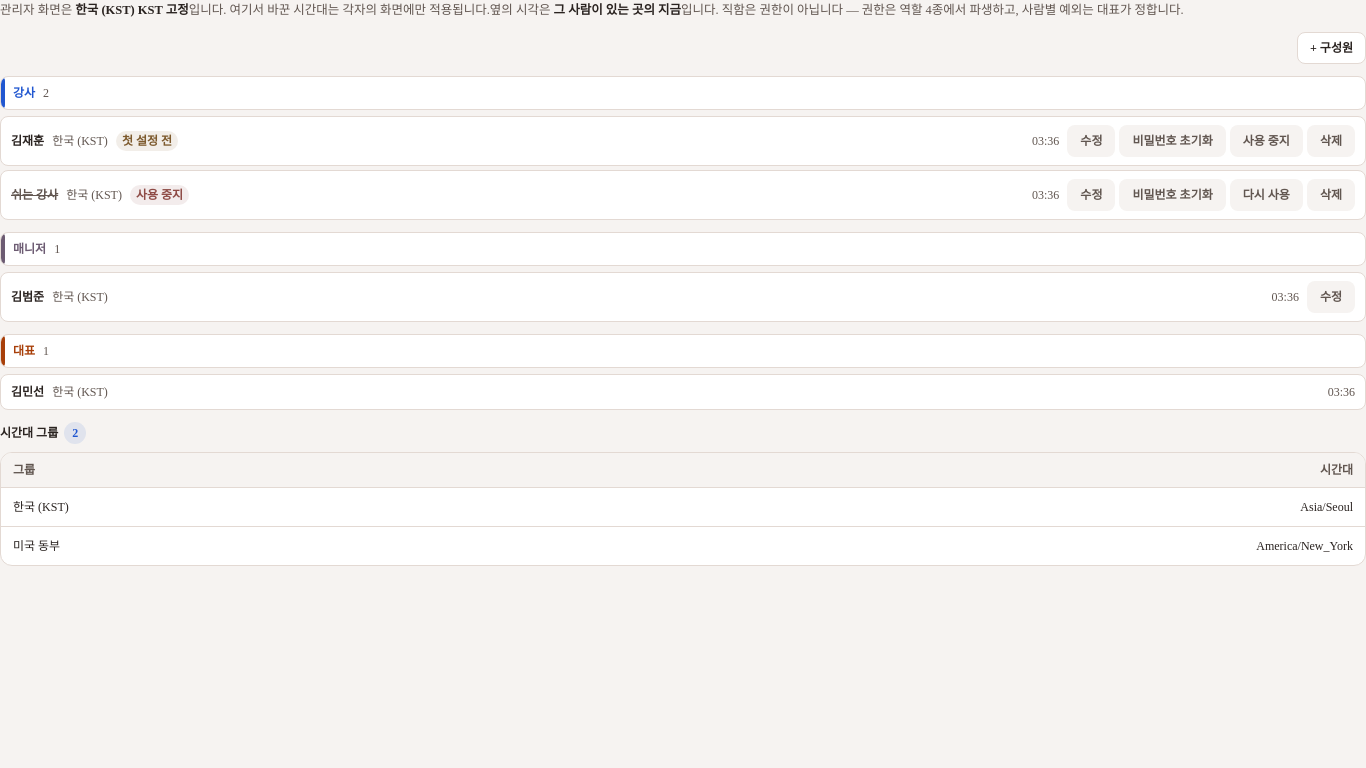
Test case: §17 사용자 표 CRUD (W8) › 자기 줄의 「수정」에는 역할 칸이 없고, 서버 거절 문장은 창 안에 남는다
Click the button "수정" in the row of "김범준": point(1331, 297) top-left (1307, 281), bottom-right (1355, 313)
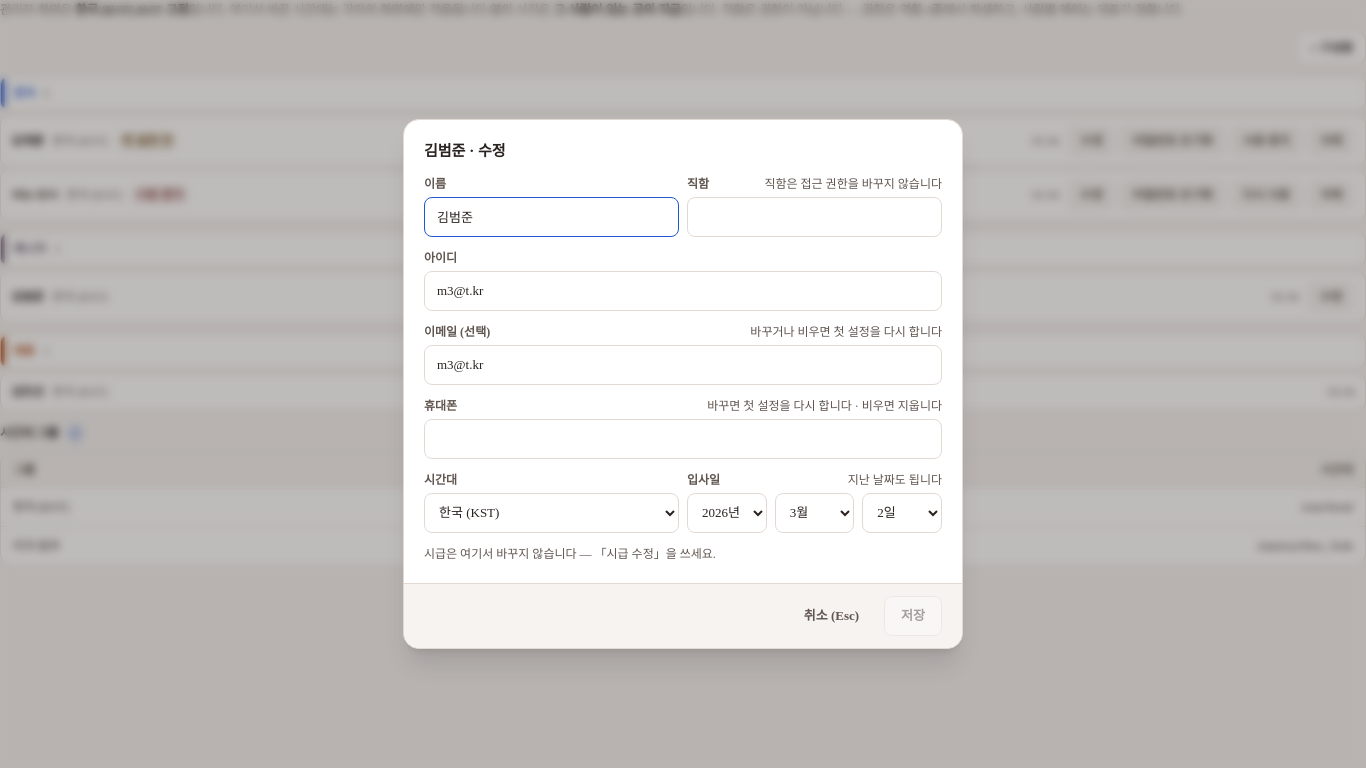
Replace the text in the field labelled "이메일 (선택)" with "m7@t.kr": point(683, 365) top-left (424, 345), bottom-right (942, 385)
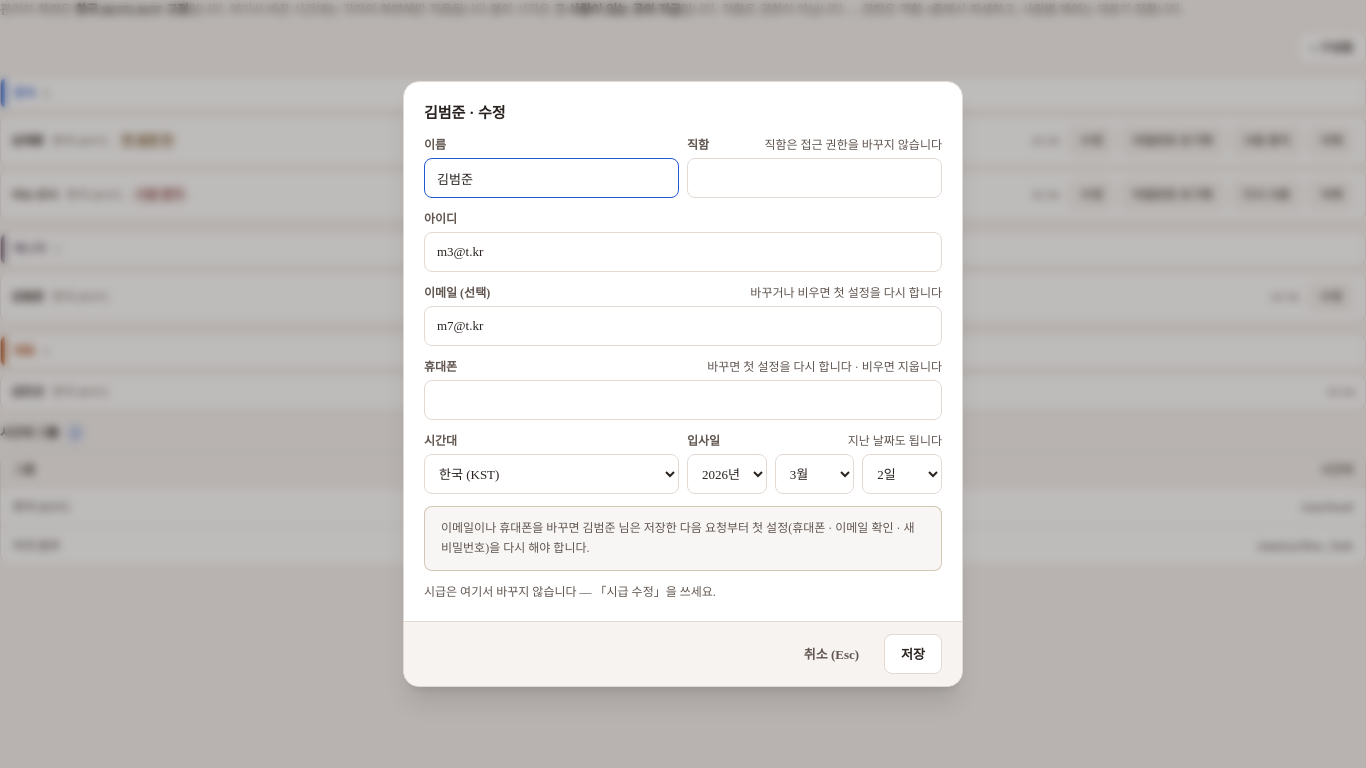
Click the button "저장": point(913, 654) top-left (884, 634), bottom-right (942, 674)
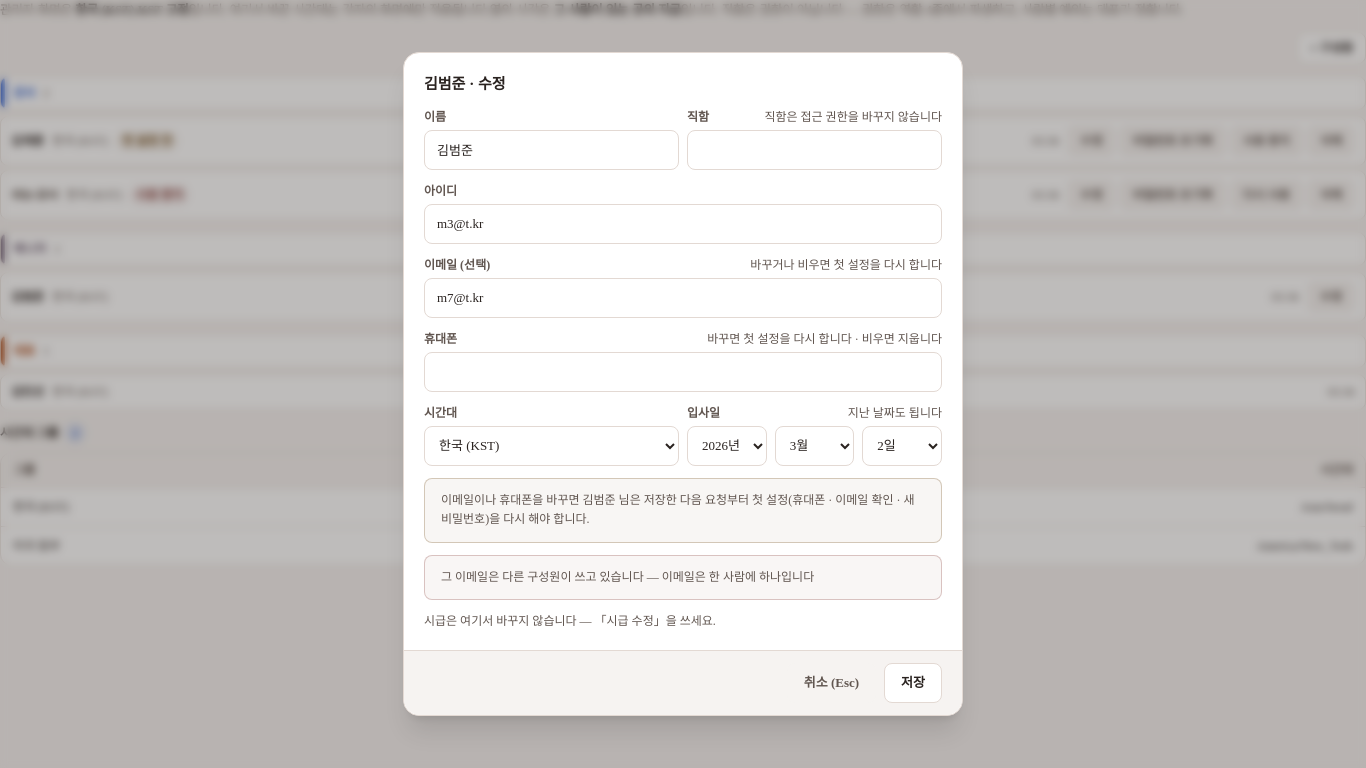
Now the dialog is shown, box top-left (403, 52), bottom-right (963, 716)
Now the text "그 이메일은 다른 구성원이 쓰고 있습니다 — 이메일은 한 사람에 하나입니다" is shown, box top-left (424, 554), bottom-right (942, 600)
